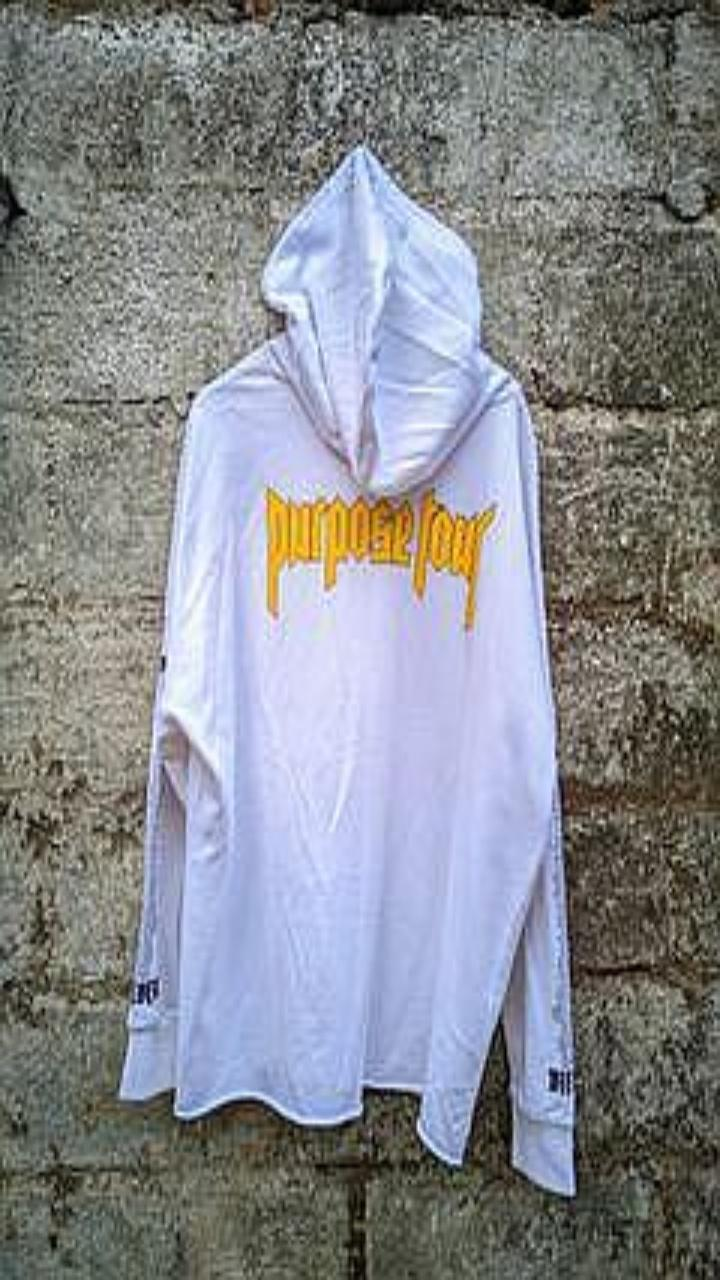Hoodie: (119, 144, 574, 1195)
